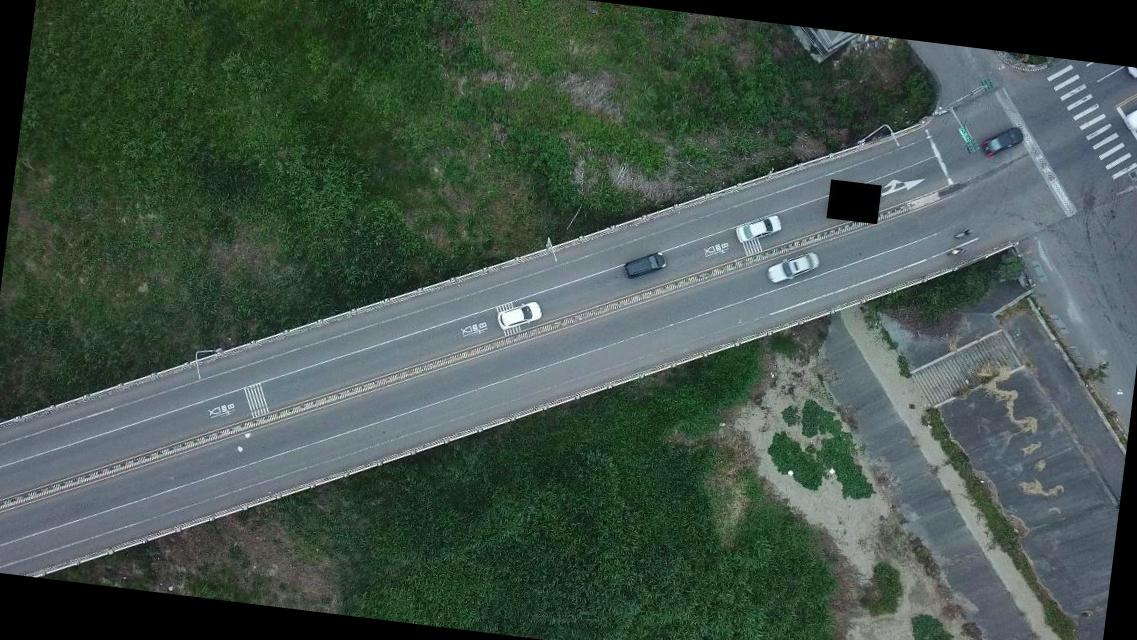vehicle: (765, 247, 820, 287), (732, 210, 784, 250), (496, 296, 543, 334), (622, 246, 668, 282), (982, 124, 1024, 160), (1123, 94, 1136, 137)
